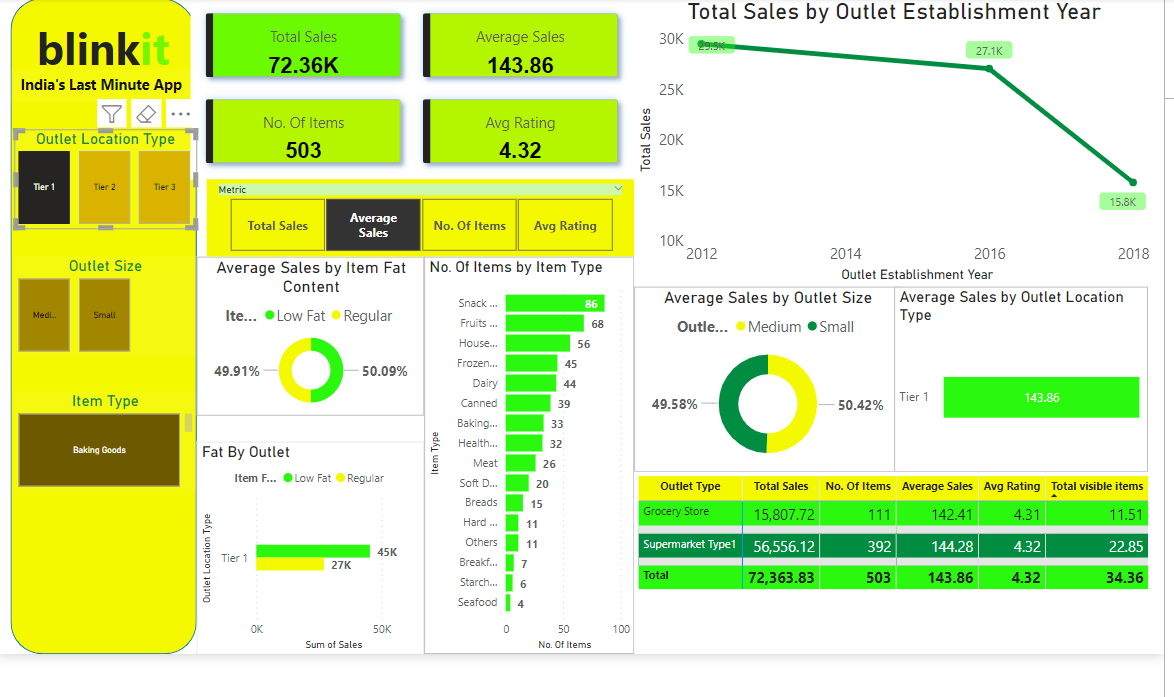

Layout of this report page (visuals, bound fields, positions):
{"tool":"powerbi","page":{"name":"Page 1","canvas":[1280,720],"ordinal":0},"visuals":[{"type":"shape","box":[13.7,0,204.5,720.4],"z":0},{"type":"textbox","box":[30.2,16.5,170.2,74.1],"z":1000},{"type":"textbox","box":[11,78.2,204.5,37],"z":2000},{"type":"cardVisual","fields":{"Data":["BlinkIT Grocery Data.Total Sales","BlinkIT Grocery Data.Average Sales","BlinkIT Grocery Data.No. Of Items","BlinkIT Grocery Data.Avg Rating"]},"box":[211.3,0,487.1,199],"z":3000},{"type":"donutChart","fields":{"Y":["BlinkIT Grocery Data.Average Sales"],"Category":["BlinkIT Grocery Data.Item Fat Content"]},"box":[218.2,284,249.7,174.3],"z":4000},{"type":"slicer","fields":{"Values":["Metric.Metric"]},"box":[229.2,199,469.3,85.1],"z":5000},{"type":"clusteredBarChart","title":"Fat By Outlet","fields":{"Y":["Sum(BlinkIT Grocery Data.Sales)"],"Category":["BlinkIT Grocery Data.Outlet Location Type"],"Series":["BlinkIT Grocery Data.Item Fat Content"]},"box":[218.2,487.1,249.7,233.3],"z":6000},{"type":"clusteredBarChart","fields":{"Y":["BlinkIT Grocery Data.No. Of Items"],"Category":["BlinkIT Grocery Data.Item Type"]},"box":[467.9,284,230.5,436.4],"z":7000},{"type":"lineChart","fields":{"Y":["BlinkIT Grocery Data.Total Sales"],"Category":["BlinkIT Grocery Data.Outlet Establishment Year"]},"box":[698.5,0,570.8,317],"z":8000},{"type":"donutChart","fields":{"Y":["BlinkIT Grocery Data.Average Sales"],"Category":["BlinkIT Grocery Data.Outlet Size"]},"box":[698.5,317,292.3,203.1],"z":9000},{"type":"funnel","fields":{"Y":["BlinkIT Grocery Data.Average Sales"],"Category":["BlinkIT Grocery Data.Outlet Location Type"]},"box":[983.9,317,278.6,203.1],"z":10000},{"type":"pivotTable","fields":{"Values":["BlinkIT Grocery Data.Total Sales","BlinkIT Grocery Data.No. Of Items","BlinkIT Grocery Data.Average Sales","BlinkIT Grocery Data.Avg Rating","Sum(BlinkIT Grocery Data.Item Visibility)"],"Rows":["BlinkIT Grocery Data.Outlet Type"]},"box":[698.5,520.1,581.8,200.3],"z":11000},{"type":"advancedSlicerVisual","fields":{"Values":["BlinkIT Grocery Data.Outlet Size"]},"box":[17.8,284,200.3,109.8],"z":12000},{"type":"advancedSlicerVisual","fields":{"Values":["BlinkIT Grocery Data.Outlet Location Type"]},"box":[17.8,144.1,200.3,109.8],"z":13000},{"type":"advancedSlicerVisual","fields":{"Values":["BlinkIT Grocery Data.Item Type"]},"box":[17.8,432.2,200.3,109.8],"z":13001}]}

Visuals, with their boxes on the page's 1280x720 design canvas (x1, y1, x2, y2). These are canvas units, not pixel positions in the 1174x697 screenshot, which may show the page scaled, cropped or inside an application window:
shape: 14 0 218 720
textbox: 30 16 200 91
textbox: 11 78 216 115
cardVisual - BlinkIT Grocery Data.Total Sales x BlinkIT Grocery Data.Average Sales: 211 0 698 199
donutChart - BlinkIT Grocery Data.Average Sales x BlinkIT Grocery Data.Item Fat Content: 218 284 468 458
slicer - Metric.Metric: 229 199 698 284
"Fat By Outlet" clusteredBarChart: 218 487 468 720
clusteredBarChart - BlinkIT Grocery Data.No. Of Items x BlinkIT Grocery Data.Item Type: 468 284 698 720
lineChart - BlinkIT Grocery Data.Total Sales x BlinkIT Grocery Data.Outlet Establishment Year: 698 0 1269 317
donutChart - BlinkIT Grocery Data.Average Sales x BlinkIT Grocery Data.Outlet Size: 698 317 991 520
funnel - BlinkIT Grocery Data.Average Sales x BlinkIT Grocery Data.Outlet Location Type: 984 317 1262 520
pivotTable - BlinkIT Grocery Data.Total Sales x BlinkIT Grocery Data.No. Of Items: 698 520 1280 720
advancedSlicerVisual - BlinkIT Grocery Data.Outlet Size: 18 284 218 394
advancedSlicerVisual - BlinkIT Grocery Data.Outlet Location Type: 18 144 218 254
advancedSlicerVisual - BlinkIT Grocery Data.Item Type: 18 432 218 542
